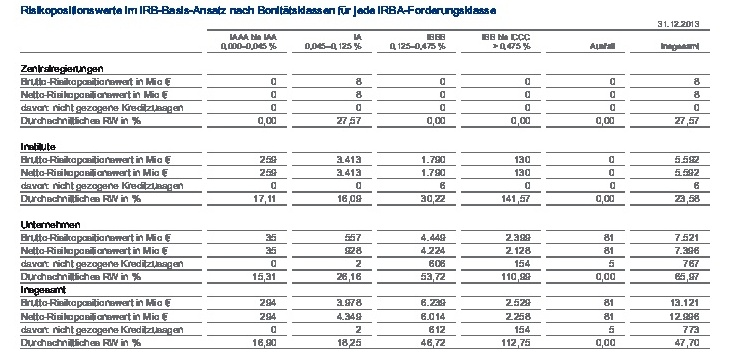table: (0, 0, 729, 363)
